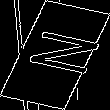N_E: (10, 28, 100, 82)
